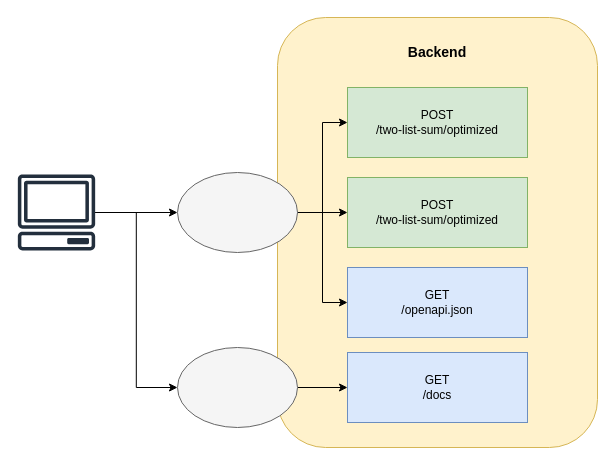
Some shapes in this 615 by 465 pixel diagram are drawn without their labels. Here are the shapes that lost their labels. From the top down, the centre of each, then its label:
At [237,212]: "localhost:8080/api/v1".
At [237,387]: "localhost:8080/docs".
